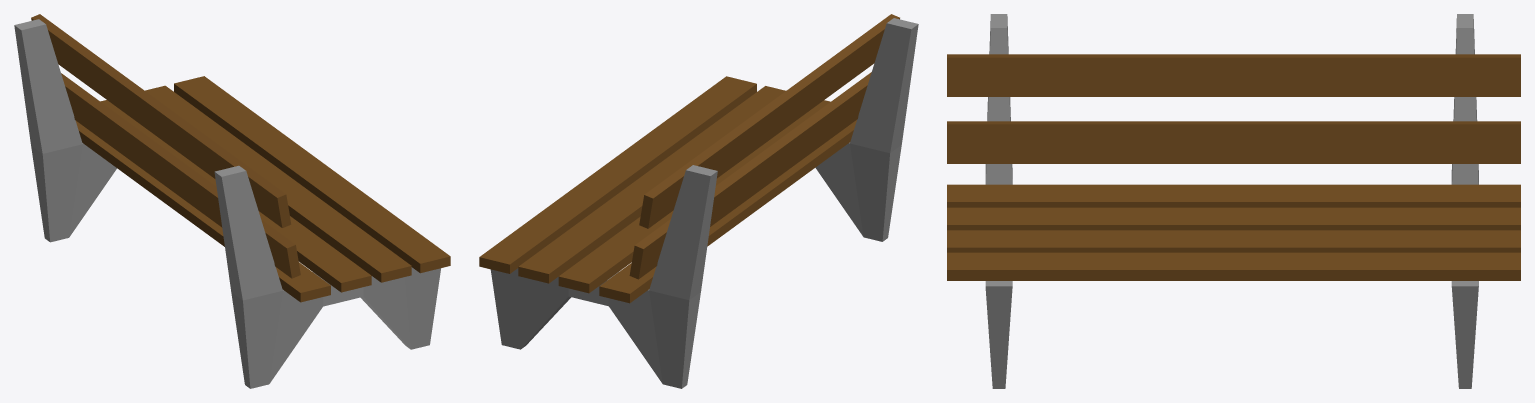
File: LowPolyBench.fbx
The picture shows the model from 3 angles, left to right: view 1: azimuth 30°, elevation 25°; view 2: azimuth 150°, elevation 25°; view 3: azimuth 270°, elevation 25°; orthographic projection. The views are drawn at different scales.
Visible parts, largest first — view 1: Cube.029; view 2: Cube.029; view 3: Cube.029.
Part boxes in pixels (x1=…): Cube.029: x1=14, y1=14, x2=450, y2=388; Cube.029: x1=479, y1=14, x2=918, y2=388; Cube.029: x1=947, y1=14, x2=1520, y2=388.
Bounding box in the file's own units: 130 × 124 × 252.
